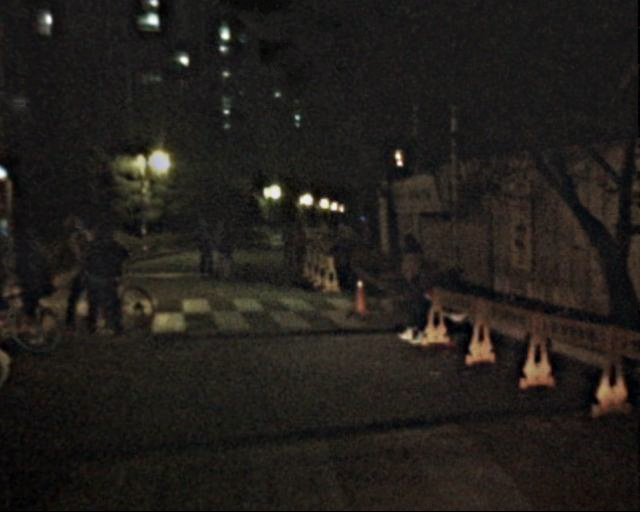person: (389, 231, 435, 342), (64, 214, 110, 325), (13, 227, 56, 331), (88, 226, 130, 328), (192, 221, 216, 279), (211, 222, 234, 279), (276, 222, 295, 269), (288, 225, 306, 269)
